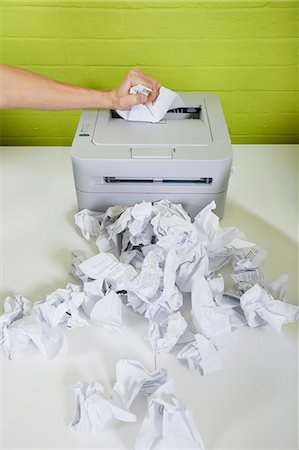paper: (132, 376, 209, 450), (236, 270, 299, 344), (65, 377, 130, 434), (1, 283, 34, 363)
